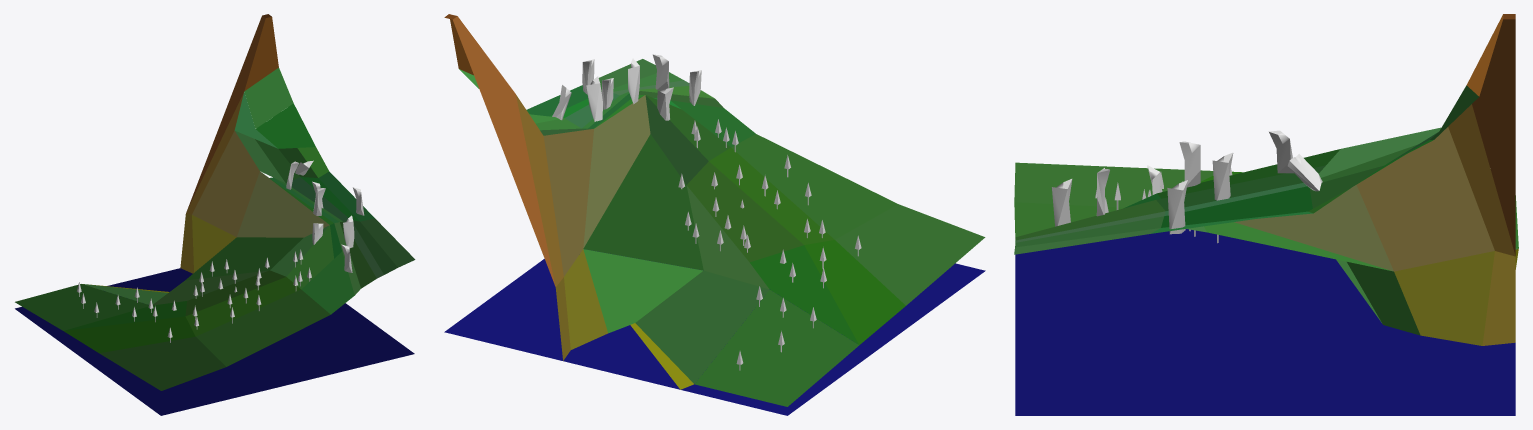
Rendered from GameMAP.FBX.
The picture shows the model from 3 angles, left to right: view 1: azimuth 30°, elevation 25°; view 2: azimuth 150°, elevation 25°; view 3: azimuth 270°, elevation 25°; orthographic projection. The views are drawn at different scales.
Parts seen in each view (by area): view 1: Environment; view 2: Environment, Gwilin06; view 3: Environment, Gwilin04, Gwilin03, Gwilin05, Gwilin00, Gwilin07, Gwilin06.
Boxes of the visible parts, <box> form: Environment: <box>15,14,415,415</box>; Environment: <box>444,14,985,415</box>; Gwilin06: <box>586,76,602,121</box>; Environment: <box>1014,14,1518,415</box>; Gwilin04: <box>1167,180,1188,234</box>; Gwilin03: <box>1179,141,1200,187</box>; Gwilin05: <box>1212,152,1233,200</box>; Gwilin00: <box>1052,179,1072,226</box>; Gwilin07: <box>1287,154,1322,191</box>; Gwilin06: <box>1269,130,1293,173</box>.
Size of the model in its own units: 159 by 138 by 159.
